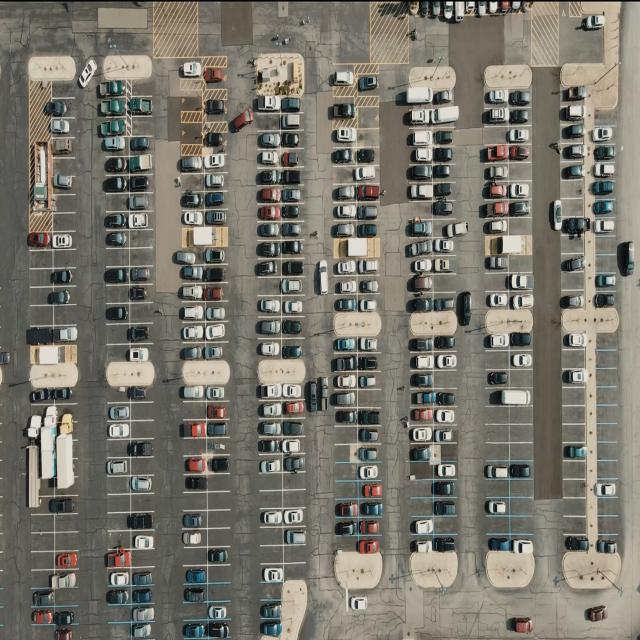space-empty: (106, 528, 131, 550), (29, 305, 54, 327), (483, 350, 510, 370), (434, 273, 460, 293), (559, 198, 585, 218), (180, 400, 206, 420), (128, 230, 155, 249), (436, 370, 460, 391), (106, 323, 130, 344), (510, 368, 535, 388), (560, 349, 585, 369), (257, 277, 282, 297), (562, 479, 587, 499), (129, 456, 154, 476), (105, 284, 131, 303), (482, 127, 508, 146), (30, 515, 56, 534), (484, 442, 510, 461), (486, 407, 512, 426), (406, 201, 433, 219), (356, 106, 379, 127), (130, 115, 154, 135), (260, 526, 284, 546), (54, 306, 78, 326), (207, 490, 231, 510), (560, 234, 584, 254), (106, 512, 130, 532), (208, 510, 232, 530), (30, 286, 54, 306), (334, 480, 358, 500), (335, 424, 359, 444), (510, 496, 534, 516), (52, 193, 77, 212), (54, 588, 79, 607), (561, 406, 586, 425), (434, 516, 459, 535), (106, 493, 131, 512), (29, 269, 54, 288), (560, 179, 585, 198), (562, 459, 587, 478), (356, 389, 381, 408), (30, 532, 55, 551), (104, 192, 129, 211), (562, 424, 587, 443), (52, 212, 77, 231), (485, 273, 510, 292), (182, 492, 207, 511), (31, 552, 56, 571), (562, 497, 587, 516), (484, 480, 510, 498), (256, 113, 282, 131), (128, 248, 154, 266), (180, 124, 203, 144), (129, 304, 152, 324), (131, 402, 154, 422), (283, 561, 306, 581), (28, 211, 51, 231), (432, 218, 455, 238), (509, 163, 533, 182), (29, 250, 53, 269), (562, 387, 586, 406), (510, 480, 534, 499), (56, 531, 80, 550), (104, 247, 128, 266), (131, 420, 155, 439), (410, 461, 434, 480), (355, 129, 379, 148), (130, 78, 154, 97), (510, 424, 534, 443), (260, 489, 284, 508), (182, 439, 206, 458), (594, 237, 618, 256), (486, 424, 510, 443), (208, 528, 232, 547), (563, 516, 587, 535), (208, 584, 232, 603), (435, 444, 459, 463), (105, 477, 130, 495), (178, 174, 203, 192), (131, 493, 156, 511), (106, 604, 131, 622), (508, 254, 533, 272), (510, 443, 535, 461), (182, 602, 207, 620), (52, 80, 77, 98), (409, 497, 434, 515), (486, 517, 512, 534), (31, 568, 53, 588), (261, 546, 284, 565), (208, 563, 231, 582), (596, 386, 619, 405), (282, 489, 305, 508), (595, 350, 618, 369), (334, 462, 357, 481), (596, 496, 619, 515), (560, 272, 584, 290), (509, 217, 533, 235), (53, 159, 77, 177), (183, 548, 207, 566), (131, 550, 155, 568), (55, 514, 79, 532), (260, 474, 284, 492), (510, 516, 534, 534), (595, 333, 619, 351), (106, 385, 130, 403), (592, 108, 616, 126), (510, 406, 534, 424), (106, 345, 130, 363), (55, 249, 77, 268), (106, 439, 128, 458), (596, 368, 618, 387), (596, 423, 618, 442), (597, 515, 619, 534), (333, 166, 356, 184), (283, 546, 306, 564), (262, 584, 285, 602), (596, 406, 619, 424), (207, 473, 230, 491), (409, 480, 432, 498), (335, 534, 358, 552), (108, 623, 132, 640), (597, 442, 618, 461), (596, 256, 618, 274), (334, 445, 356, 463), (281, 472, 304, 489), (180, 95, 203, 112), (597, 460, 618, 478), (31, 626, 55, 640)
space-occupied: (491, 386, 533, 405), (99, 116, 129, 136), (101, 134, 128, 156), (99, 98, 128, 118), (48, 97, 75, 118), (405, 106, 432, 127), (588, 178, 616, 198), (204, 95, 228, 118), (256, 316, 281, 338), (258, 296, 283, 318), (332, 125, 357, 147), (334, 65, 356, 90), (408, 181, 434, 202), (407, 217, 434, 237), (407, 238, 434, 258), (180, 58, 203, 81), (333, 99, 357, 121), (510, 348, 535, 369), (51, 137, 76, 158), (434, 105, 459, 126), (561, 368, 586, 389), (592, 215, 617, 236), (560, 288, 585, 309), (128, 210, 154, 230), (482, 106, 508, 126), (50, 118, 76, 138), (101, 78, 127, 98), (560, 124, 586, 144), (483, 180, 509, 200), (560, 142, 586, 162), (102, 156, 128, 176), (103, 210, 129, 230), (484, 459, 510, 479), (408, 292, 434, 312), (182, 620, 208, 640), (560, 103, 586, 123), (408, 423, 434, 443), (483, 200, 509, 220), (407, 128, 433, 148), (561, 216, 588, 235), (408, 274, 435, 293), (332, 388, 359, 407), (281, 316, 304, 338), (129, 95, 153, 116), (105, 304, 129, 325), (203, 66, 227, 87), (184, 527, 208, 548), (486, 496, 510, 517), (258, 338, 282, 359), (129, 155, 154, 175), (129, 266, 154, 286), (28, 231, 53, 251), (257, 240, 282, 260), (179, 282, 204, 302), (178, 154, 203, 174), (410, 351, 435, 371), (334, 275, 359, 295), (590, 126, 616, 145), (483, 333, 509, 352), (559, 162, 585, 181), (482, 217, 508, 236), (590, 200, 617, 218), (281, 339, 304, 360), (346, 592, 369, 613), (130, 475, 154, 495), (129, 136, 153, 156), (281, 297, 305, 317), (562, 332, 586, 352), (435, 350, 459, 370), (182, 511, 206, 531), (56, 551, 80, 571), (106, 419, 130, 439), (180, 303, 204, 323), (410, 443, 434, 463), (106, 402, 130, 422), (280, 276, 304, 296), (510, 272, 534, 292), (180, 321, 204, 341), (107, 567, 131, 587), (562, 443, 587, 462), (104, 267, 129, 286), (483, 144, 508, 163), (104, 174, 129, 193), (181, 419, 206, 438), (484, 289, 509, 308), (483, 163, 508, 182), (408, 164, 433, 183), (409, 516, 434, 535), (334, 293, 359, 312), (410, 370, 435, 389), (408, 255, 433, 274), (259, 418, 284, 437), (333, 372, 358, 391), (259, 399, 284, 418), (564, 533, 589, 552), (179, 384, 205, 402), (410, 388, 436, 406), (255, 260, 281, 278), (354, 445, 380, 463), (487, 534, 513, 552), (591, 143, 617, 161), (356, 74, 378, 95), (262, 563, 285, 583), (204, 153, 227, 173), (53, 284, 76, 304), (205, 282, 228, 302), (56, 324, 79, 344), (354, 164, 377, 184), (205, 130, 228, 150), (204, 302, 227, 322), (334, 202, 357, 222), (184, 474, 207, 494), (260, 454, 283, 474), (204, 321, 227, 341), (435, 291, 458, 311), (204, 264, 227, 284), (509, 180, 533, 199), (510, 460, 534, 479), (261, 509, 285, 528), (130, 192, 154, 211), (509, 106, 533, 125), (258, 220, 282, 239), (510, 290, 534, 309), (184, 565, 208, 584), (335, 336, 359, 355), (333, 146, 357, 165), (357, 518, 381, 537), (434, 256, 458, 275), (258, 148, 282, 167), (106, 550, 130, 569), (409, 145, 433, 164), (484, 89, 508, 108), (280, 149, 304, 168), (357, 481, 381, 500), (485, 370, 509, 389), (434, 407, 458, 426), (355, 183, 379, 202), (258, 184, 282, 203), (334, 353, 358, 372), (592, 162, 616, 181), (31, 188, 50, 212), (510, 533, 534, 552), (179, 190, 204, 208), (254, 95, 279, 113), (258, 204, 283, 222), (409, 408, 434, 426), (410, 336, 435, 354), (560, 86, 585, 104), (178, 266, 203, 284), (431, 480, 456, 498), (433, 534, 458, 552), (130, 323, 152, 343), (336, 497, 358, 517), (208, 600, 230, 620), (262, 600, 284, 620), (596, 534, 618, 554), (261, 620, 283, 640), (132, 566, 154, 586), (509, 143, 532, 162), (204, 171, 227, 190), (55, 568, 78, 587), (106, 457, 129, 476), (53, 232, 76, 251), (182, 456, 205, 475), (433, 129, 456, 148), (281, 259, 304, 278), (129, 283, 152, 302), (281, 240, 304, 259), (207, 419, 230, 438), (334, 183, 357, 202), (207, 455, 230, 474), (130, 439, 153, 458), (129, 344, 152, 363), (595, 480, 618, 499), (208, 621, 231, 640), (280, 437, 303, 456), (280, 184, 303, 203), (54, 383, 77, 402), (132, 513, 155, 532), (52, 175, 76, 193), (509, 200, 533, 218), (132, 531, 156, 549), (355, 146, 379, 164), (104, 230, 128, 248), (434, 237, 458, 255), (203, 190, 227, 208), (561, 256, 585, 274), (55, 606, 79, 624), (510, 333, 534, 351), (130, 174, 154, 192), (258, 131, 282, 149), (358, 498, 382, 516), (184, 585, 208, 603), (280, 454, 304, 472), (281, 418, 305, 436), (260, 438, 284, 456), (356, 462, 380, 480), (486, 256, 510, 274), (334, 408, 358, 426), (281, 399, 305, 417), (177, 248, 201, 266), (202, 246, 226, 264), (202, 342, 226, 360), (208, 547, 230, 566), (54, 268, 76, 287), (31, 589, 53, 608), (434, 164, 456, 183), (434, 200, 456, 219), (55, 495, 77, 514), (283, 508, 305, 527), (207, 402, 229, 421), (356, 352, 378, 371), (358, 276, 380, 295), (509, 126, 532, 144), (432, 182, 455, 200), (435, 335, 458, 353), (132, 587, 155, 605), (32, 609, 55, 627), (354, 221, 377, 239), (281, 220, 304, 238), (435, 426, 458, 444), (356, 409, 379, 427), (132, 604, 155, 622), (181, 209, 204, 227), (594, 290, 617, 308), (32, 386, 55, 404), (180, 343, 203, 361), (411, 534, 434, 552), (107, 588, 131, 605), (434, 461, 458, 478), (432, 498, 456, 515), (357, 256, 378, 275), (510, 90, 532, 108), (436, 388, 458, 406), (283, 527, 305, 545), (258, 169, 280, 187), (356, 203, 378, 221), (281, 204, 303, 222), (280, 131, 302, 149), (205, 384, 227, 402), (131, 622, 153, 640), (357, 425, 379, 443), (596, 273, 618, 291), (334, 219, 356, 237), (336, 518, 359, 535), (336, 260, 359, 277), (281, 383, 304, 400), (259, 384, 282, 401), (204, 210, 227, 227), (280, 170, 303, 187), (357, 372, 378, 390), (357, 296, 378, 314), (434, 146, 456, 163), (280, 97, 302, 114), (357, 337, 379, 354), (431, 91, 454, 107), (280, 114, 302, 130), (130, 387, 152, 402)
